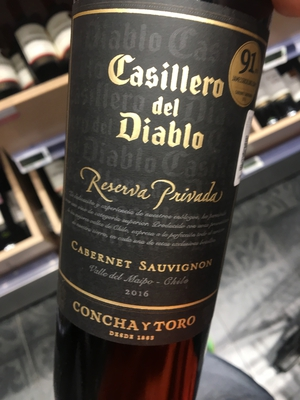casillero del diablo reserva privada cabernet sauvignon: (54, 4, 268, 400)
